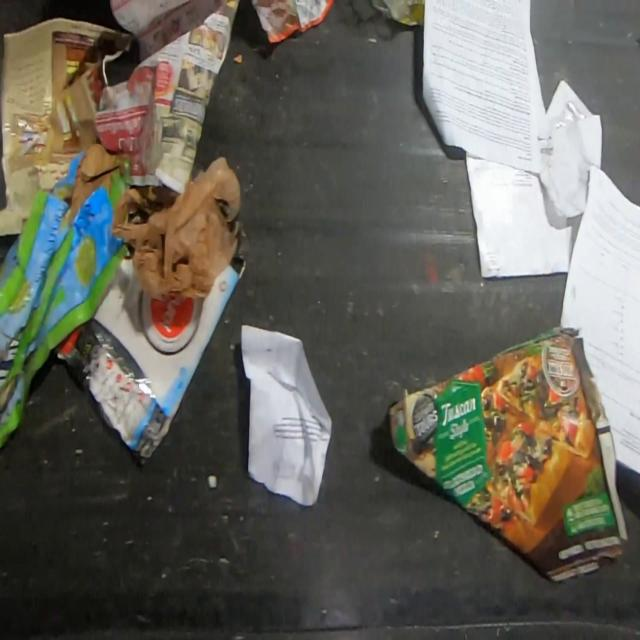cardboard: (385, 323, 630, 585), (0, 141, 157, 455), (51, 255, 241, 468)
soft_plastic: (112, 154, 244, 307)
